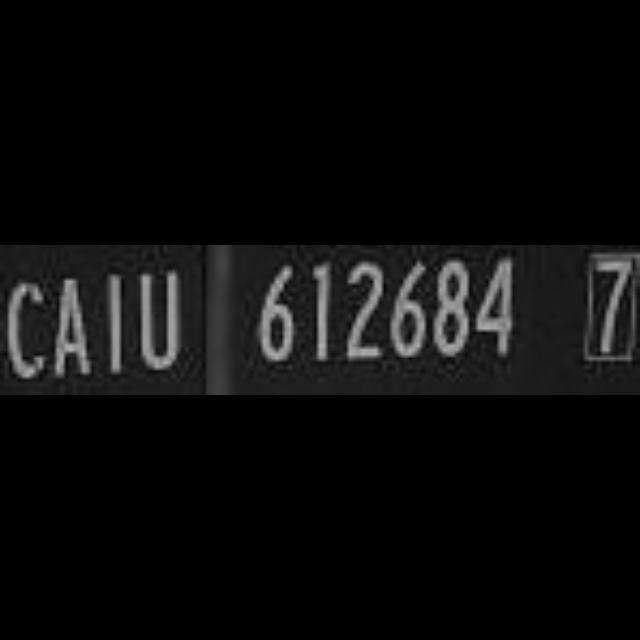1: (306, 259, 336, 367)
2: (345, 256, 385, 362)
4: (473, 257, 517, 361)
6: (388, 256, 432, 362), (255, 261, 298, 367)
7: (592, 257, 634, 357)
8: (434, 255, 471, 363)
a: (51, 276, 98, 378)
c: (0, 275, 54, 395)
i: (106, 268, 132, 382)
u: (136, 263, 184, 373)
